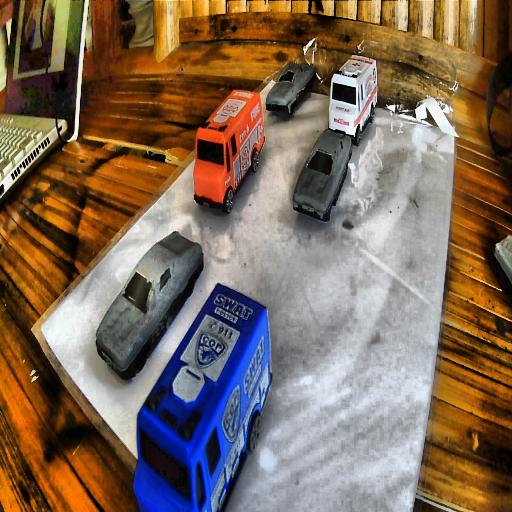ambulance: (327, 53, 378, 147)
fire_truck: (192, 86, 262, 214)
normal_car: (94, 232, 204, 380), (292, 128, 351, 225), (264, 62, 314, 115)
police car: (134, 281, 268, 512)
